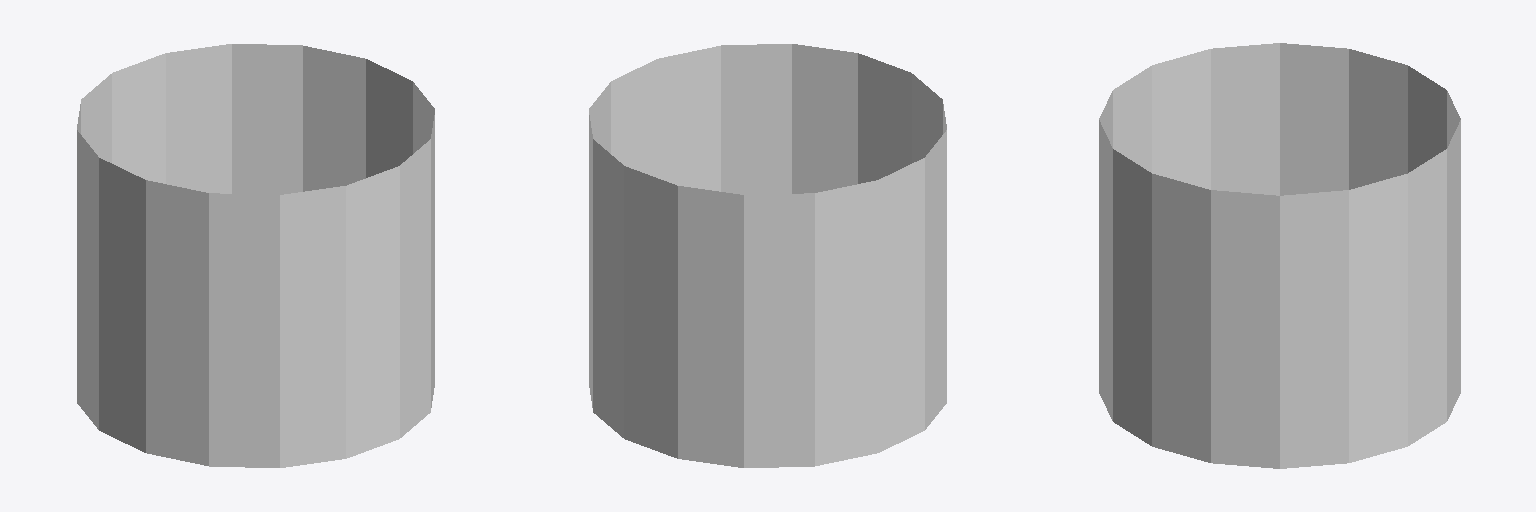
The model's file is teleportbeam.obj.
The picture shows the model from 3 angles: view 1: azimuth 30°, elevation 25°; view 2: azimuth 150°, elevation 25°; view 3: azimuth 270°, elevation 25°; orthographic projection.
Parts seen in each view (by area): view 1: beam; view 2: beam; view 3: beam.
Part boxes in pixels (bbox=[...]): beam: bbox=[77, 44, 434, 467]; beam: bbox=[589, 44, 946, 467]; beam: bbox=[1099, 43, 1460, 468].
Size of the model in its own units: 1.2 by 1 by 1.2.